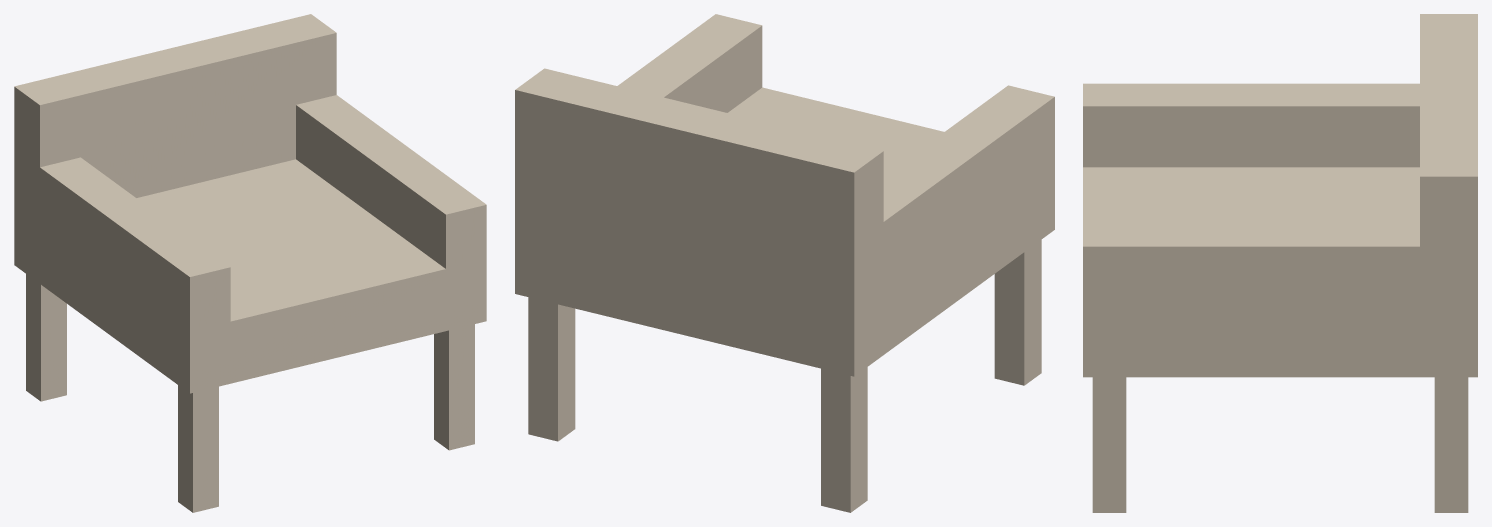
3 views of the same model, side by side, from view 1: azimuth 30°, elevation 25°; view 2: azimuth 150°, elevation 25°; view 3: azimuth 270°, elevation 25° (orthographic). The views are drawn at different scales.
Size of the model in its own units: 0.8 by 0.78 by 0.82.
